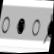correct: (14, 15, 27, 37)
no answer: (29, 15, 43, 39), (0, 12, 11, 36)
not correct: (42, 7, 53, 47)
